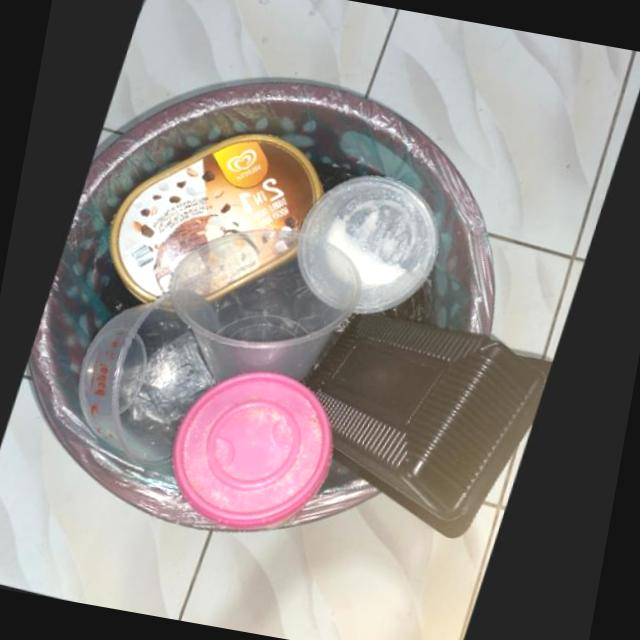hop_nhua: (308, 313, 557, 540), (113, 133, 327, 303), (175, 229, 366, 383), (178, 376, 339, 534), (85, 292, 224, 473), (300, 177, 443, 317)
